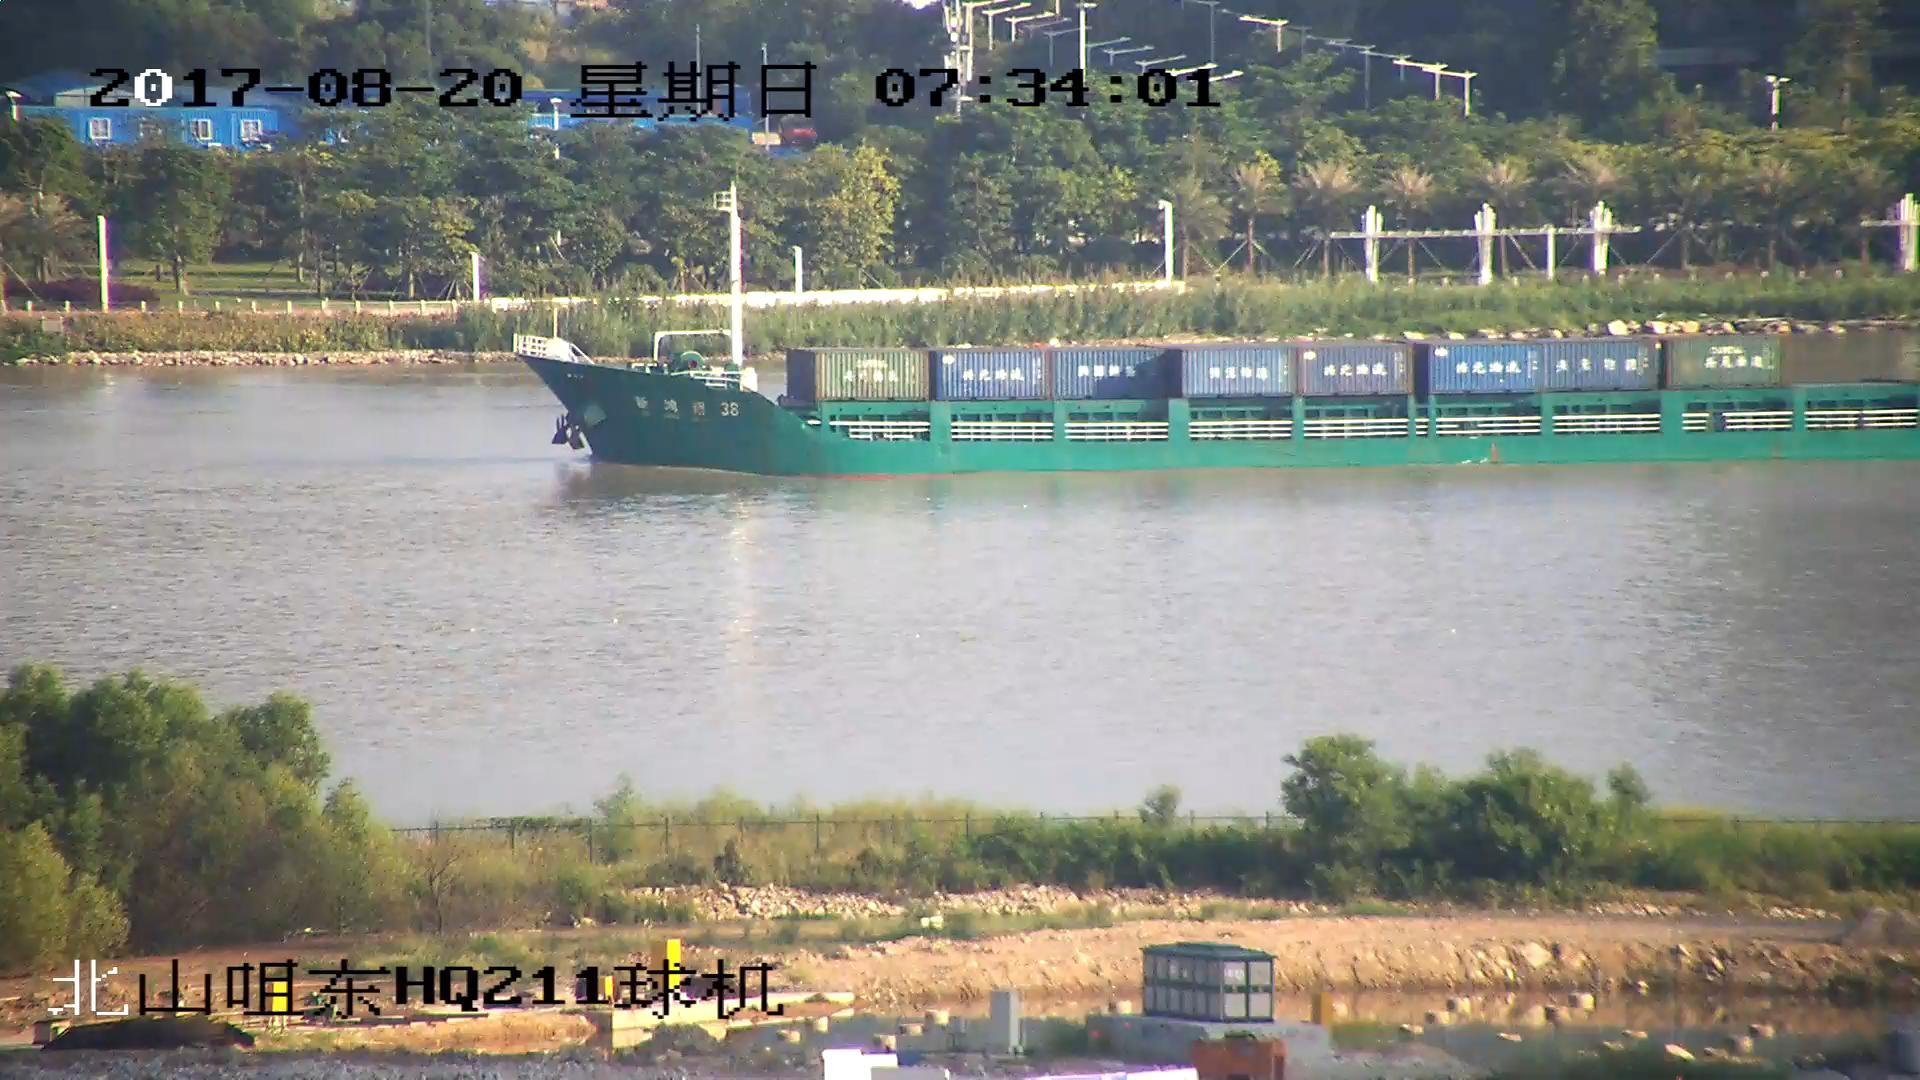Ship: (516, 186, 1920, 475)
